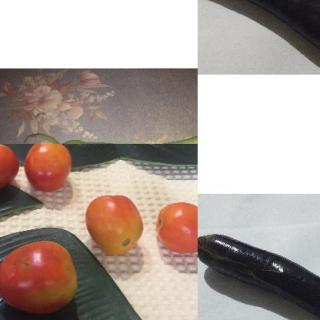Tomat: (2, 236, 91, 315), (78, 188, 147, 267), (156, 197, 205, 260), (24, 139, 73, 199)
